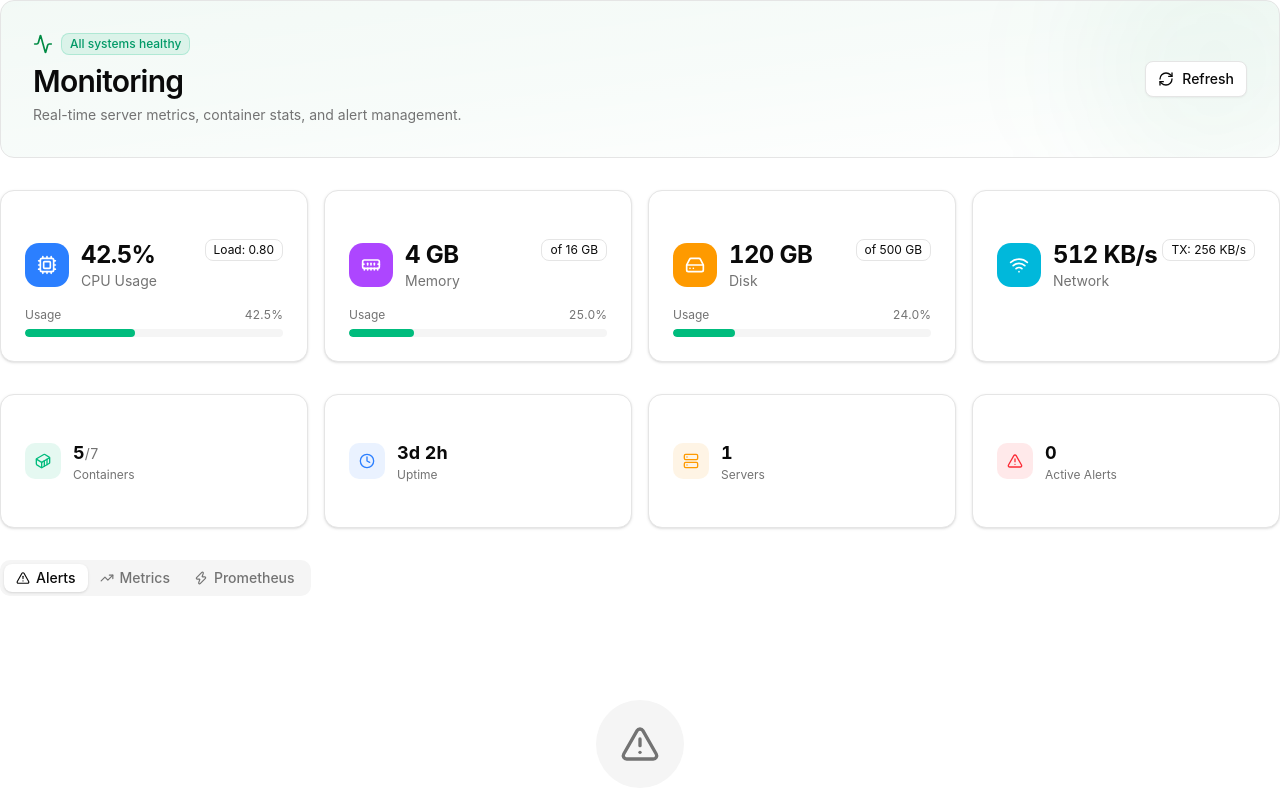
Test case: Monitoring page › renders the Prometheus endpoint hint when switching to the Prometheus tab
The image size is (1280, 800).
Click the tab "Prometheus" at (244, 578), box [182, 564, 307, 592]
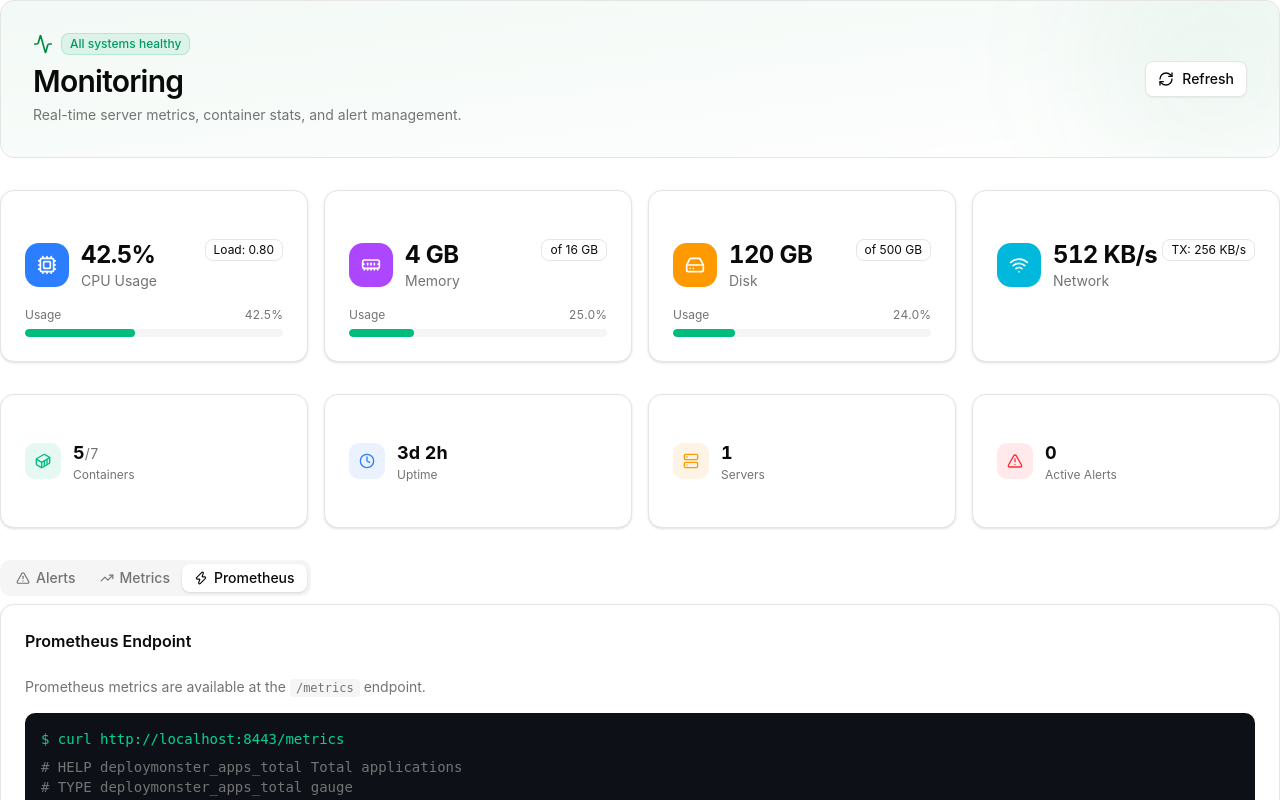
Check: the text "Prometheus Endpoint" is shown, box [25, 631, 191, 651]
Check: the text "$ curl http://localhost:8443/metrics" is shown, box [41, 731, 344, 747]
